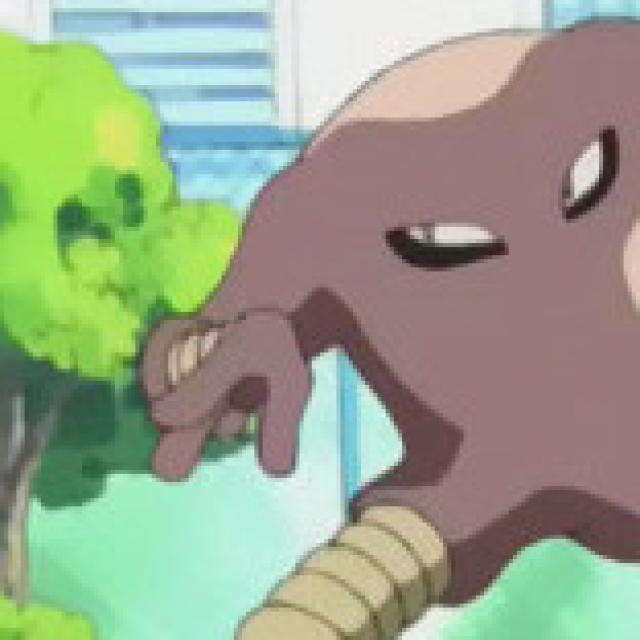Hitmonlee: (196, 24, 640, 640)
